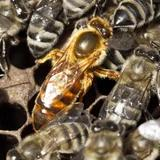Queen-Bee: (32, 17, 118, 130)
worker-bee: (99, 45, 159, 127)
